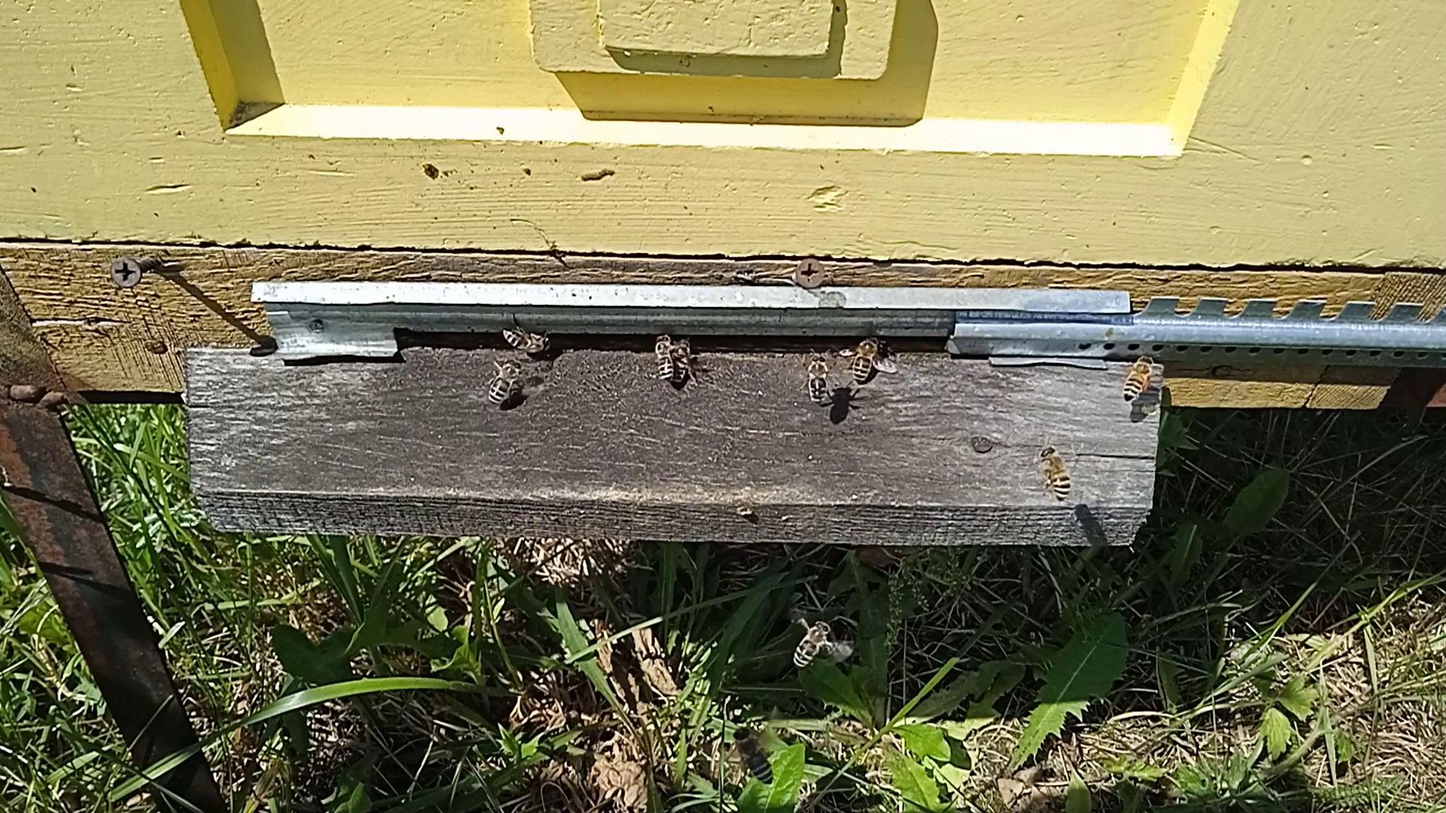worker-bee: (732, 726, 775, 785), (1036, 445, 1073, 503), (793, 619, 833, 668), (487, 357, 527, 406), (1120, 354, 1156, 404), (497, 324, 553, 354), (848, 335, 883, 382), (805, 353, 834, 406), (653, 333, 680, 385)
